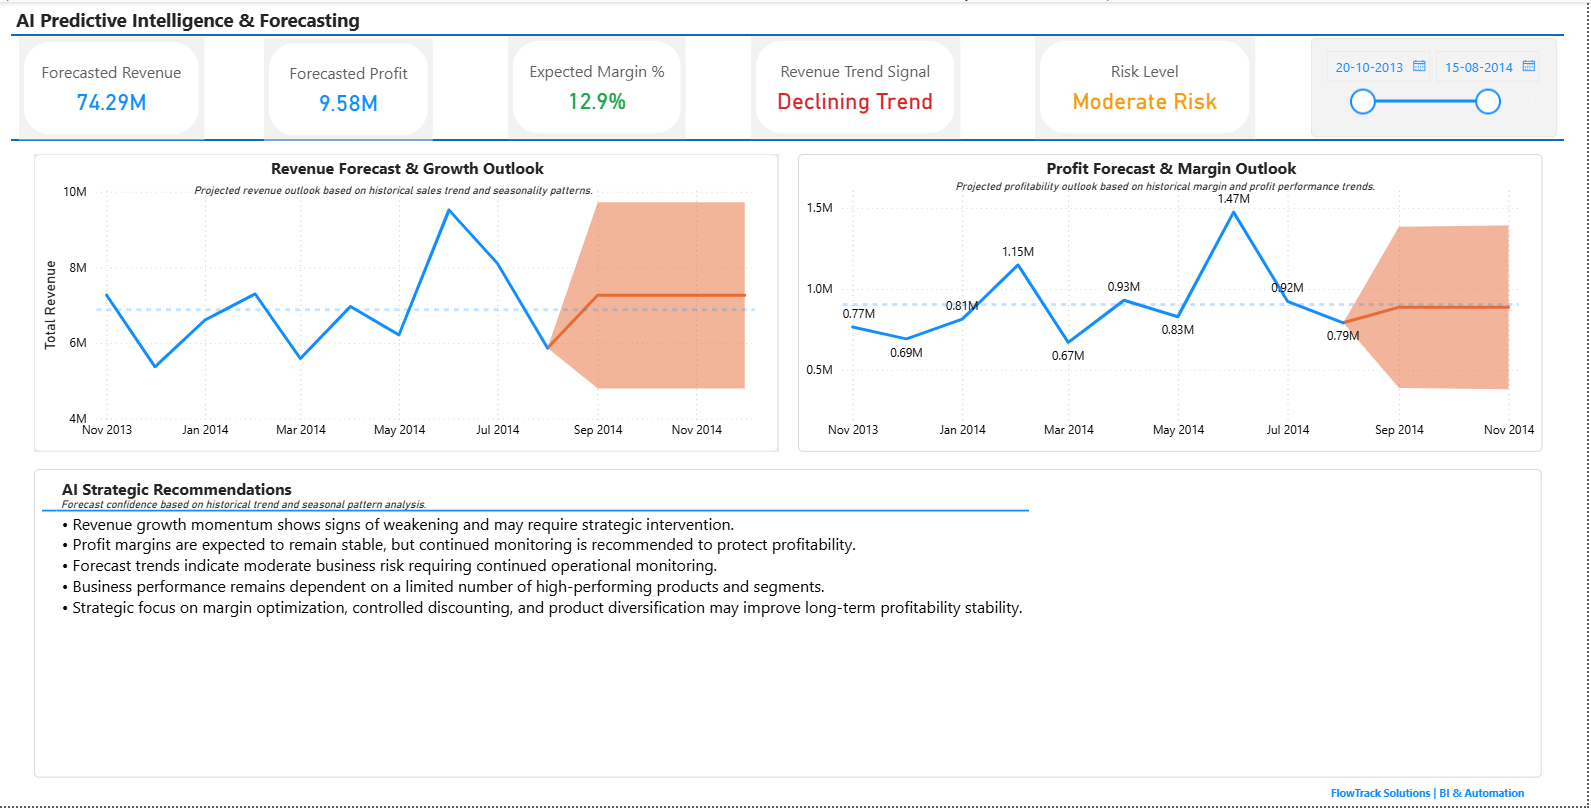

The dashboard page shown, as its layout file describes it:
{"tool":"powerbi","page":{"name":"AI Predictive Intelligence & Forecasting","canvas":[1600,810],"ordinal":3},"visuals":[{"type":"lineChart","title":"Revenue Forecast & Growth Outlook","fields":{"Y":["financials.Total Revenue"],"Category":["Calendar.Date.Variation.Date Hierarchy.Year","Calendar.Date.Variation.Date Hierarchy.Quarter","Calendar.Date.Variation.Date Hierarchy.Month","Calendar.Date.Variation.Date Hierarchy.Day"]},"box":[35.4,153.5,750,299.5],"z":0,"group":"g1"},{"type":"pivotTable","title":"Sales by Ship Mode","fields":{"Values":["financials.AI Strategic Recommendations"]},"box":[35.3,470.5,1519.3,311.3],"z":0},{"type":"textbox","box":[12.1,0,371.8,35.3],"z":1000},{"type":"lineChart","title":"Profit Forecast & Margin Outlook","fields":{"Y":["financials.Total Profit2"],"Category":["Calendar.Date.Variation.Date Hierarchy.Year","Calendar.Date.Variation.Date Hierarchy.Quarter","Calendar.Date.Variation.Date Hierarchy.Month","Calendar.Date.Variation.Date Hierarchy.Day"]},"box":[805.3,153.5,749.9,299.5],"z":1000,"group":"g2"},{"type":"shape","box":[12.1,29.2,1564.6,8.1],"z":2000},{"type":"shape","box":[12.1,129,1564.6,20.1],"z":3000},{"type":"textbox","box":[1336.9,781.8,217.6,28.2],"z":4000},{"type":"cardVisual","fields":{"Data":["financials.Forecasted Revenue"]},"box":[20.1,35.4,186.6,103.9],"z":5000},{"type":"cardVisual","fields":{"Data":["financials.Forecasted Profit"]},"box":[267,36.3,170.3,103.8],"z":6000},{"type":"cardVisual","fields":{"Data":["financials.Expected Margin %"]},"box":[512.5,34.2,179.5,103.9],"z":7000},{"type":"cardVisual","fields":{"Data":["financials.Revenue Trend Signal"]},"box":[757.6,34.3,210.6,103.8],"z":8000},{"type":"cardVisual","fields":{"Data":["financials.Risk Level"]},"box":[1043.7,34.3,221.6,103.8],"z":9000},{"type":"slicer","fields":{"Values":["Calendar.Date"]},"box":[1321.3,36.6,248,100.4],"z":10000},{"type":"group","id":"g1","title":"Group 1","box":[35.4,153.5,750,299.5],"z":11000},{"type":"group","id":"g2","title":"Group 2","box":[805.3,153.5,749.8,299.9],"z":12000},{"type":"shape","title":"Projected revenue outlook based on historical sales trend and seasonality patterns.","box":[167.1,183.6,459.3,22.4],"z":15001,"group":"g1"},{"type":"shape","title":"Forecast confidence based on historical trend and seasonal pattern analysis.","box":[30.7,499.5,432.2,20.1],"z":15001},{"type":"shape","title":"Projected profitability outlook based on historical margin and profit performance trends.","box":[805.3,179.4,739.3,22.4],"z":15003,"group":"g2"}]}

Visuals, with their boxes in screenshot pixels (x1, y1, x2, y2), scaled from the page's 1600x810 canvas onto the 1591x808 screenshot:
"Revenue Forecast & Growth Outlook" lineChart: bbox=[35, 153, 781, 452]
"Sales by Ship Mode" pivotTable: bbox=[35, 469, 1546, 780]
textbox: bbox=[12, 0, 382, 35]
"Profit Forecast & Margin Outlook" lineChart: bbox=[801, 153, 1546, 452]
shape: bbox=[12, 29, 1568, 37]
shape: bbox=[12, 129, 1568, 149]
textbox: bbox=[1329, 780, 1546, 807]
cardVisual - financials.Forecasted Revenue: bbox=[20, 35, 206, 139]
cardVisual - financials.Forecasted Profit: bbox=[265, 36, 435, 140]
cardVisual - financials.Expected Margin %: bbox=[510, 34, 688, 138]
cardVisual - financials.Revenue Trend Signal: bbox=[753, 34, 963, 138]
cardVisual - financials.Risk Level: bbox=[1038, 34, 1258, 138]
slicer - Calendar.Date: bbox=[1314, 37, 1560, 137]
"Group 1" group: bbox=[35, 153, 781, 452]
"Group 2" group: bbox=[801, 153, 1546, 452]
"Projected revenue outlook based on historical sales trend and seasonality patterns." shape: bbox=[166, 183, 623, 205]
"Forecast confidence based on historical trend and seasonal pattern analysis." shape: bbox=[31, 498, 460, 518]
"Projected profitability outlook based on historical margin and profit performance trends." shape: bbox=[801, 179, 1536, 201]
